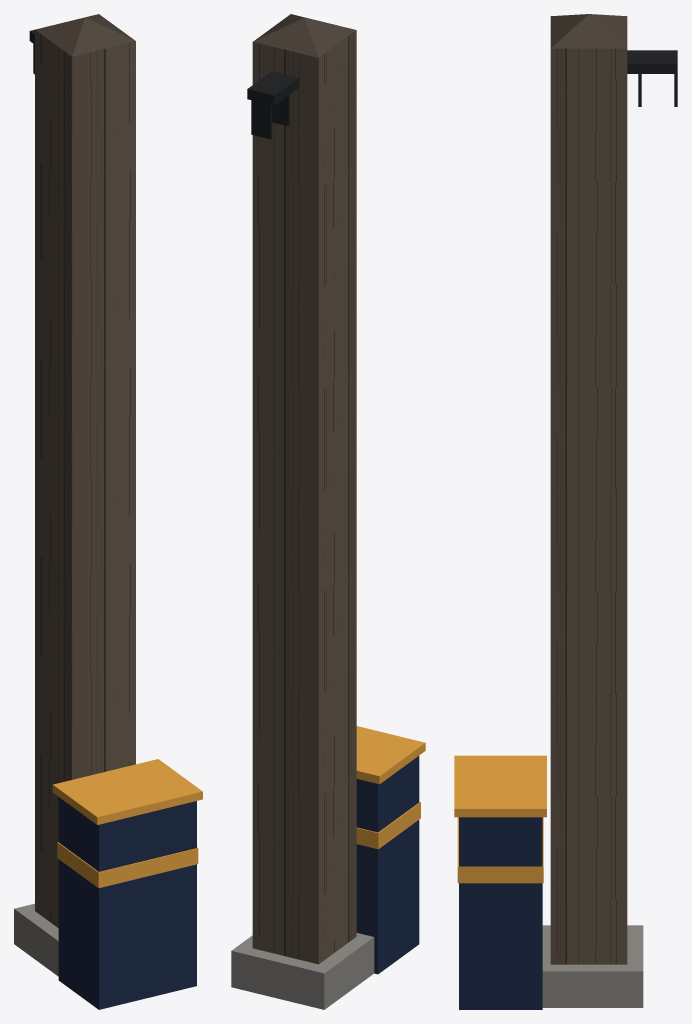
The model's file is MinidoracatKnoxPass_slidemotor2_D.glb.
3 renders of one model, left to right at view 1: azimuth 30°, elevation 25°; view 2: azimuth 150°, elevation 25°; view 3: azimuth 270°, elevation 25°, orthographic. The views are drawn at different scales.
Parts seen in each view (by area): view 1: MinidoracatKnoxPass_slidemotor2_D; view 2: MinidoracatKnoxPass_slidemotor2_D; view 3: MinidoracatKnoxPass_slidemotor2_D.
Part boxes in pixels (x1,y1,x2,y2): MinidoracatKnoxPass_slidemotor2_D: (14,14,202,1009); MinidoracatKnoxPass_slidemotor2_D: (231,14,425,1009); MinidoracatKnoxPass_slidemotor2_D: (454,14,677,1009).
Bounding box in the file's own units: 0.56 × 4.74 × 0.987.
Materials: 1 (1 with a texture image).
